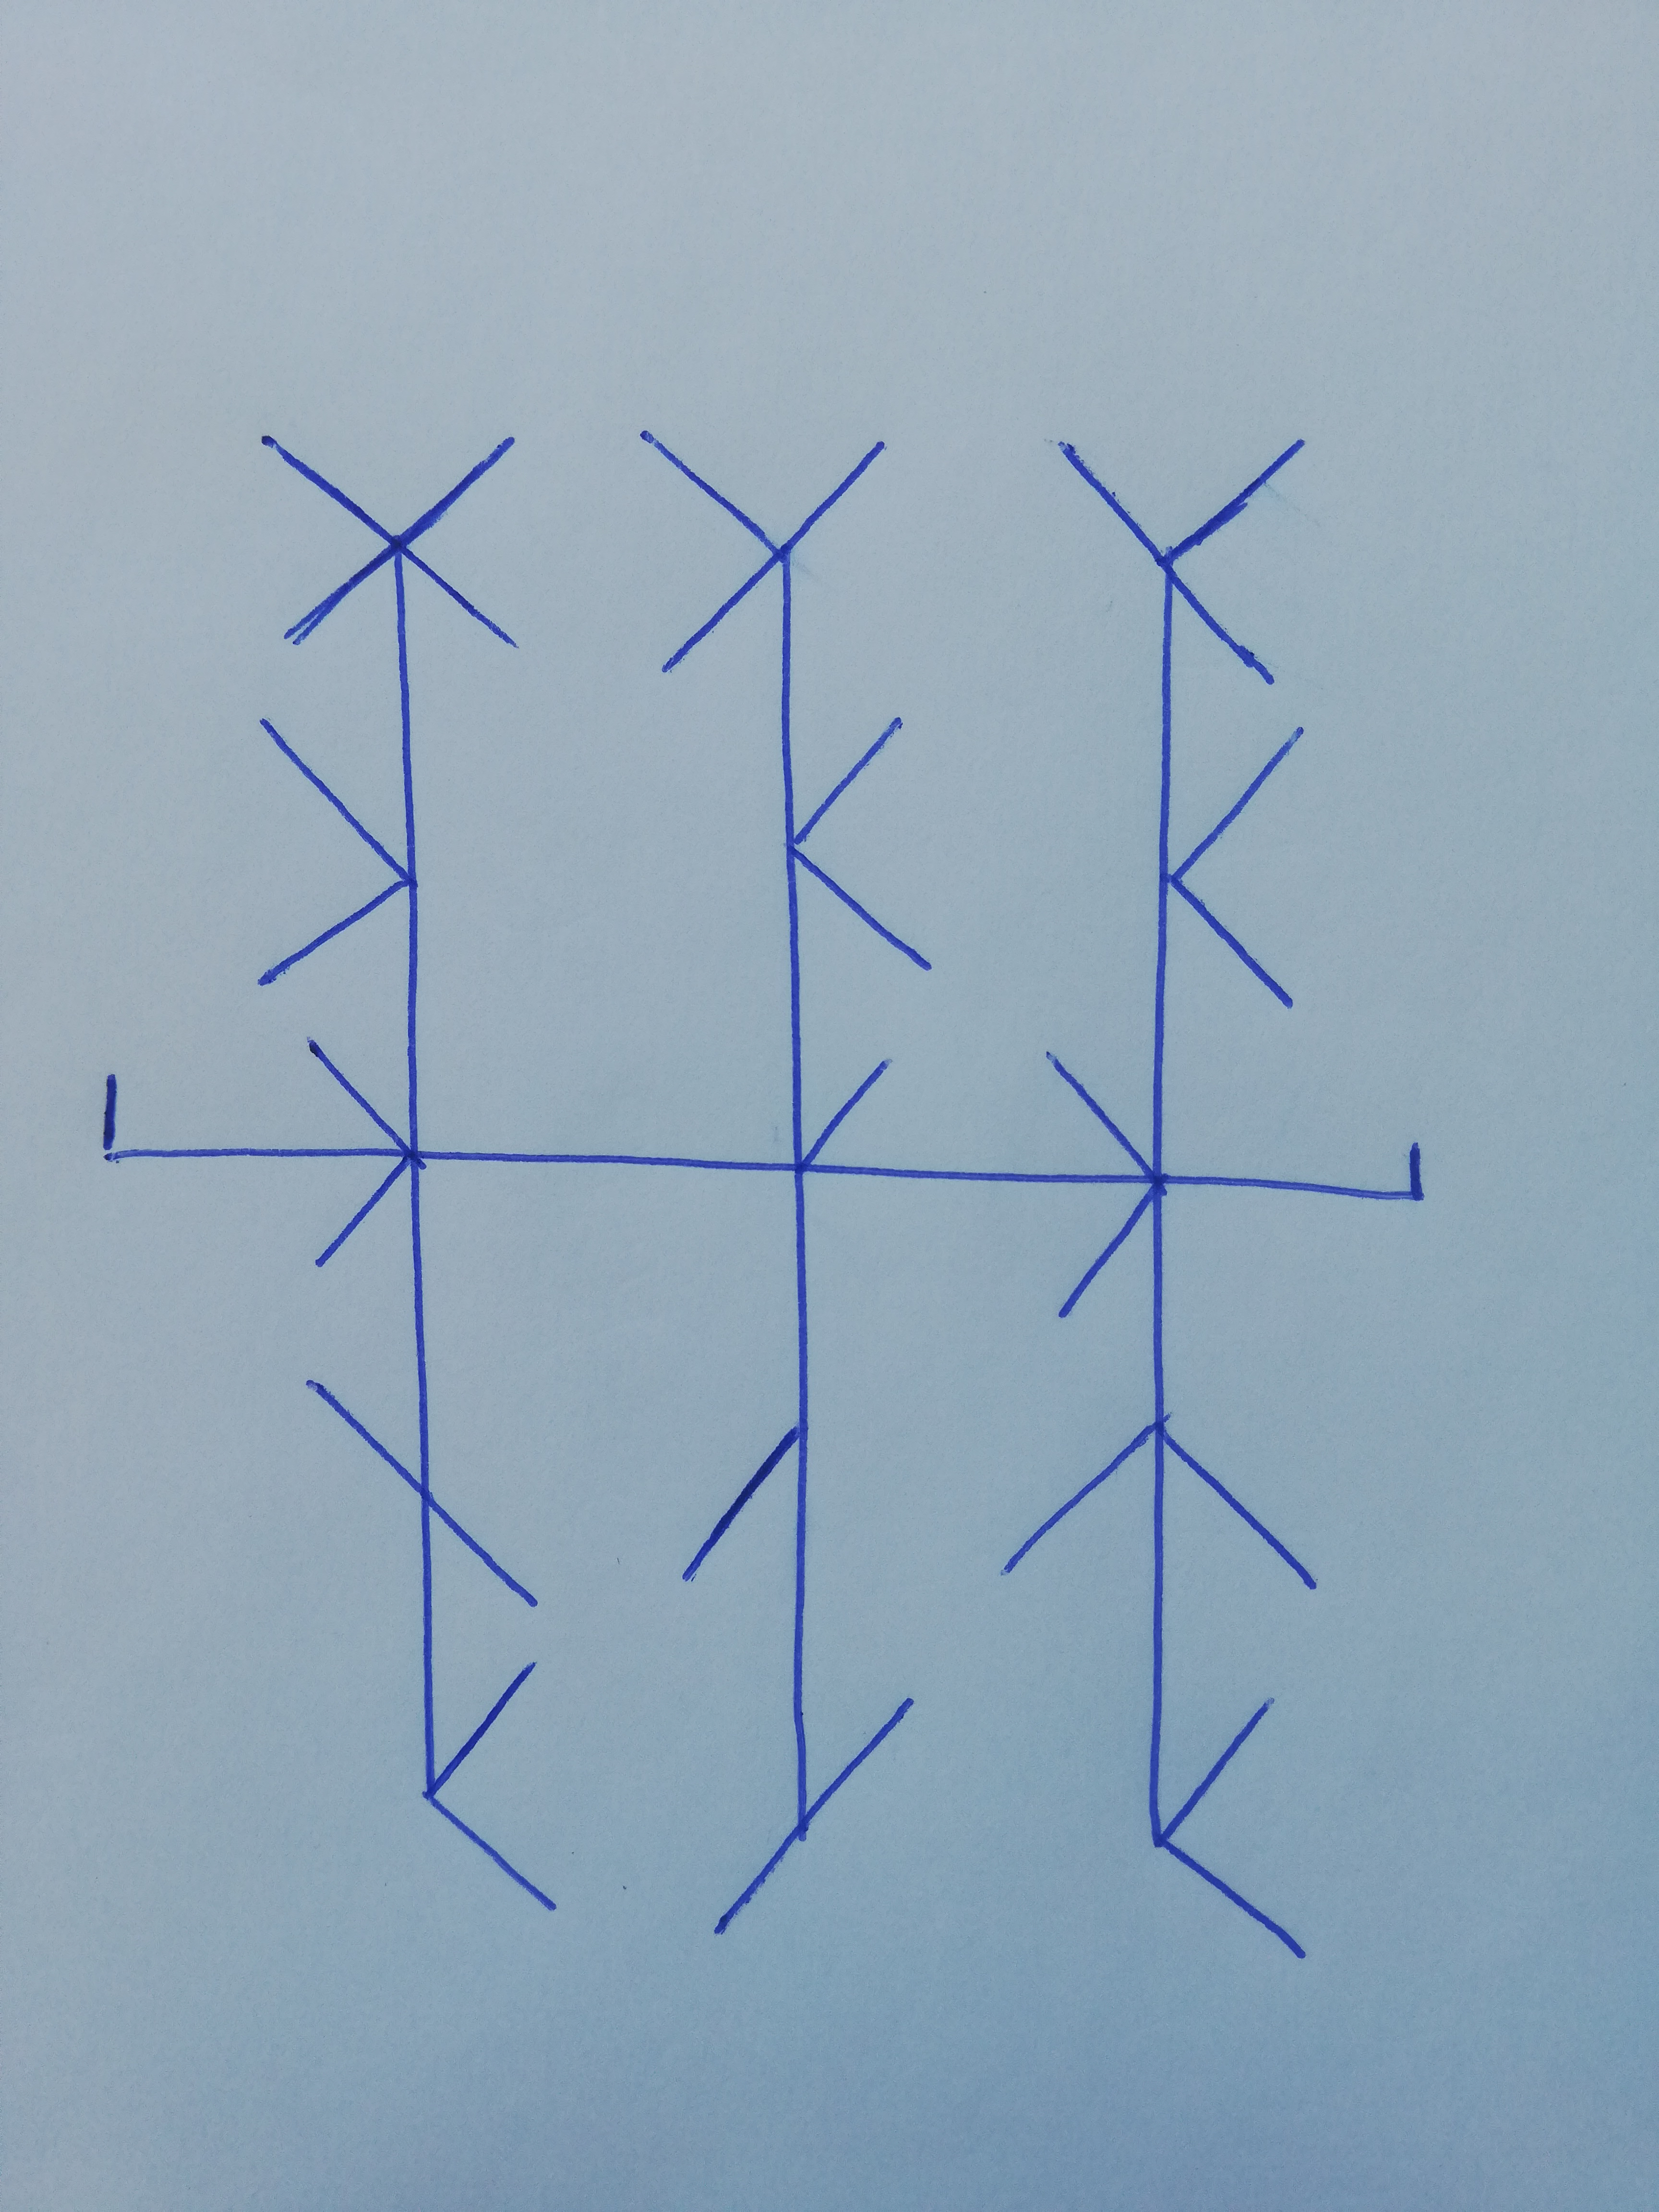Bar: (999, 441, 1317, 1961), (256, 432, 559, 1914), (640, 432, 934, 1933)
Barcode: (101, 428, 1425, 1965)
End: (1164, 1141, 1425, 1204)
Start: (105, 1071, 326, 1163)
